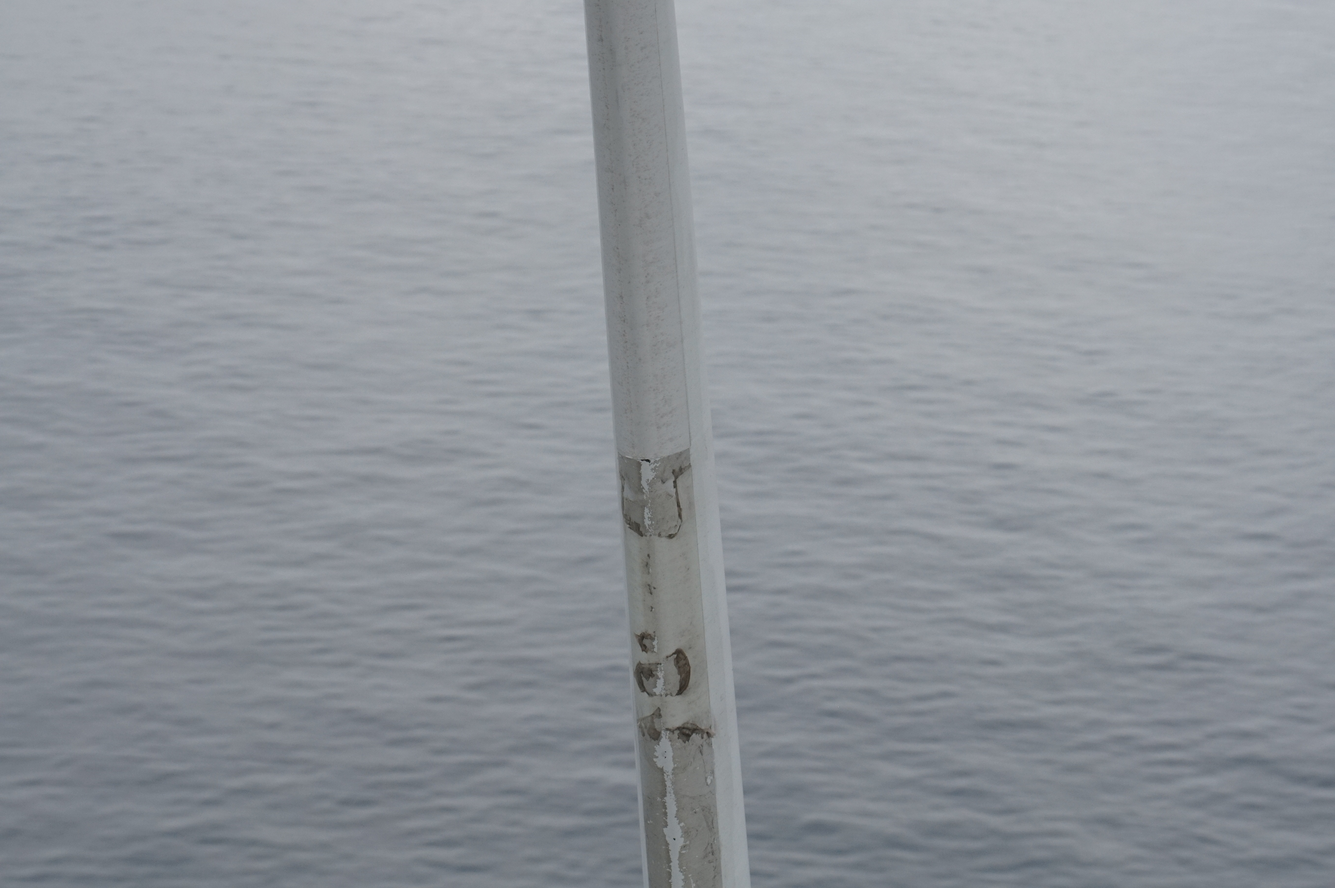Damage: (619, 452, 688, 543), (634, 632, 693, 699)
